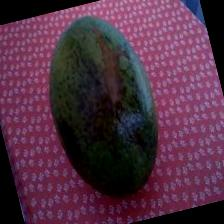Orange Rotten: (26, 0, 191, 218)
